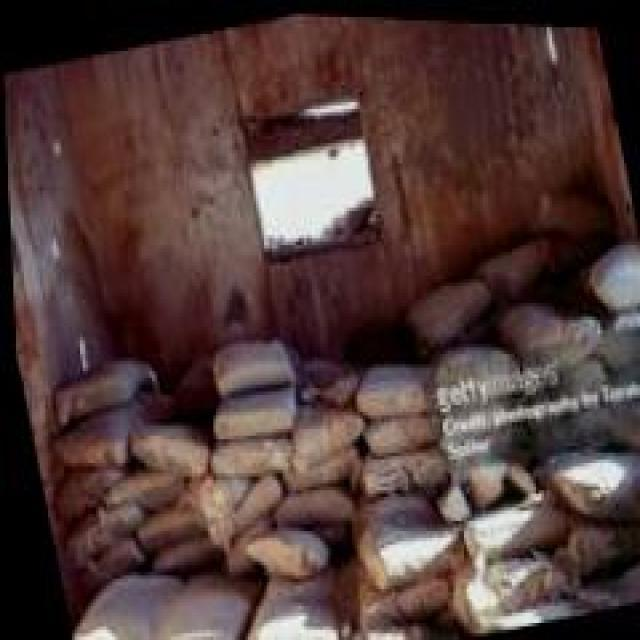gunny_bag: (499, 280, 599, 387), (56, 387, 166, 466), (144, 565, 253, 640), (74, 574, 174, 640), (418, 266, 497, 345), (362, 569, 440, 634), (375, 524, 458, 584), (472, 498, 564, 551), (64, 496, 129, 566), (60, 344, 148, 395), (485, 228, 554, 289), (362, 448, 439, 499), (566, 459, 640, 512), (443, 356, 511, 407), (594, 233, 640, 308), (212, 354, 290, 398), (130, 504, 200, 553), (300, 409, 354, 472), (226, 470, 280, 531), (363, 409, 433, 453), (273, 489, 347, 529), (215, 402, 286, 443), (248, 536, 315, 575), (215, 441, 280, 480), (362, 385, 417, 417), (242, 622, 328, 640), (618, 391, 640, 448)
